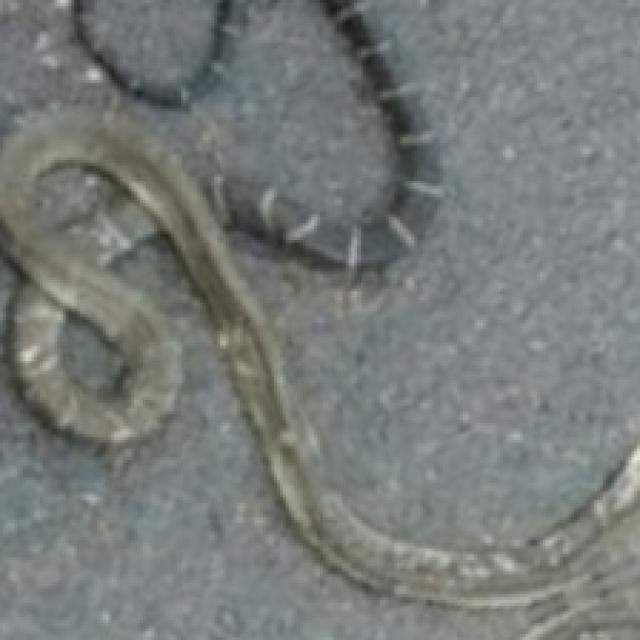king cobra: (0, 234, 554, 637), (229, 0, 637, 543), (0, 0, 91, 143)
